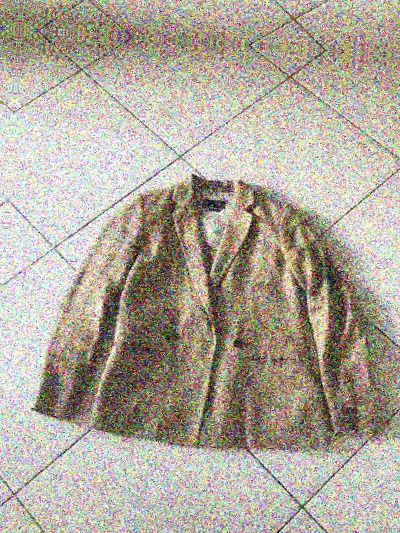Blazer: (19, 160, 400, 476)
